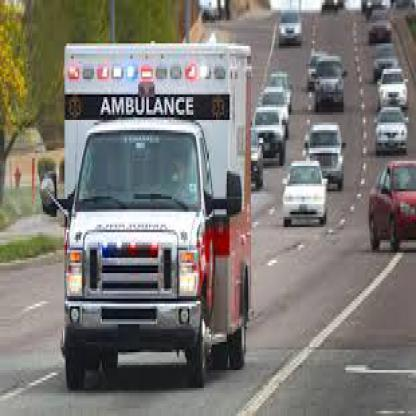Ambulance - v1 Ambulance last generate: (51, 28, 257, 403)
